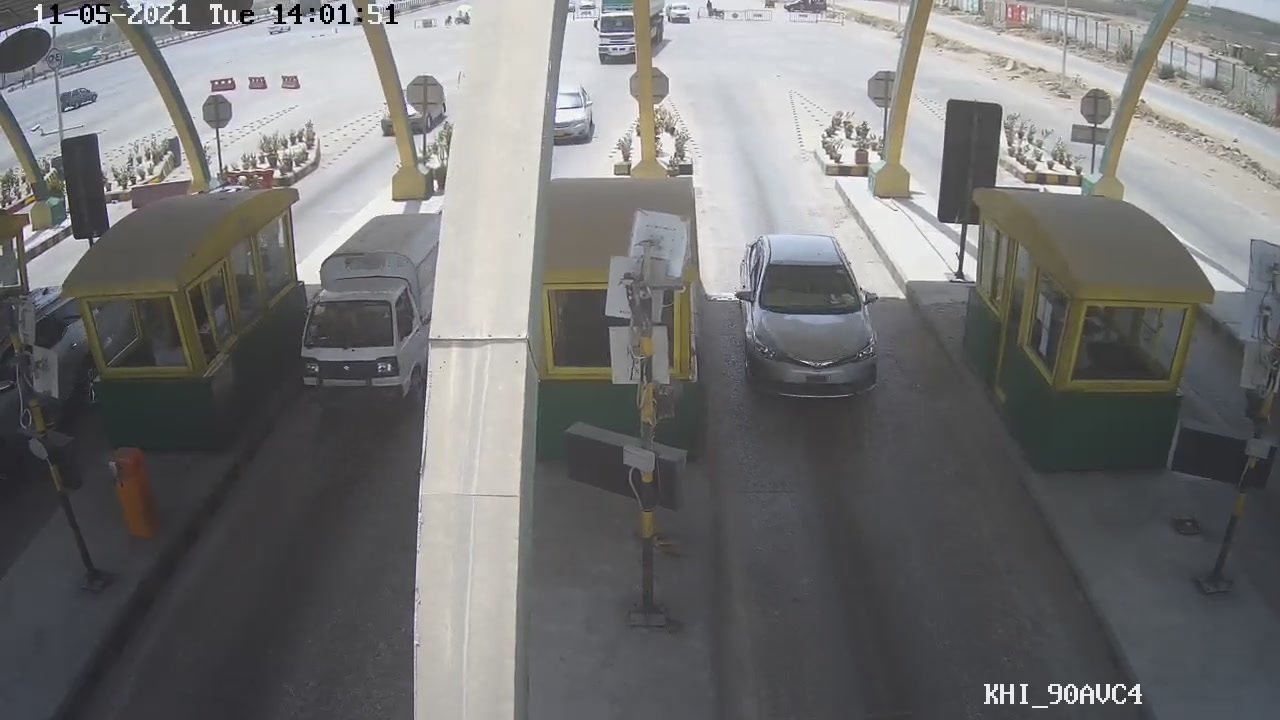F1: (737, 227, 884, 413)
